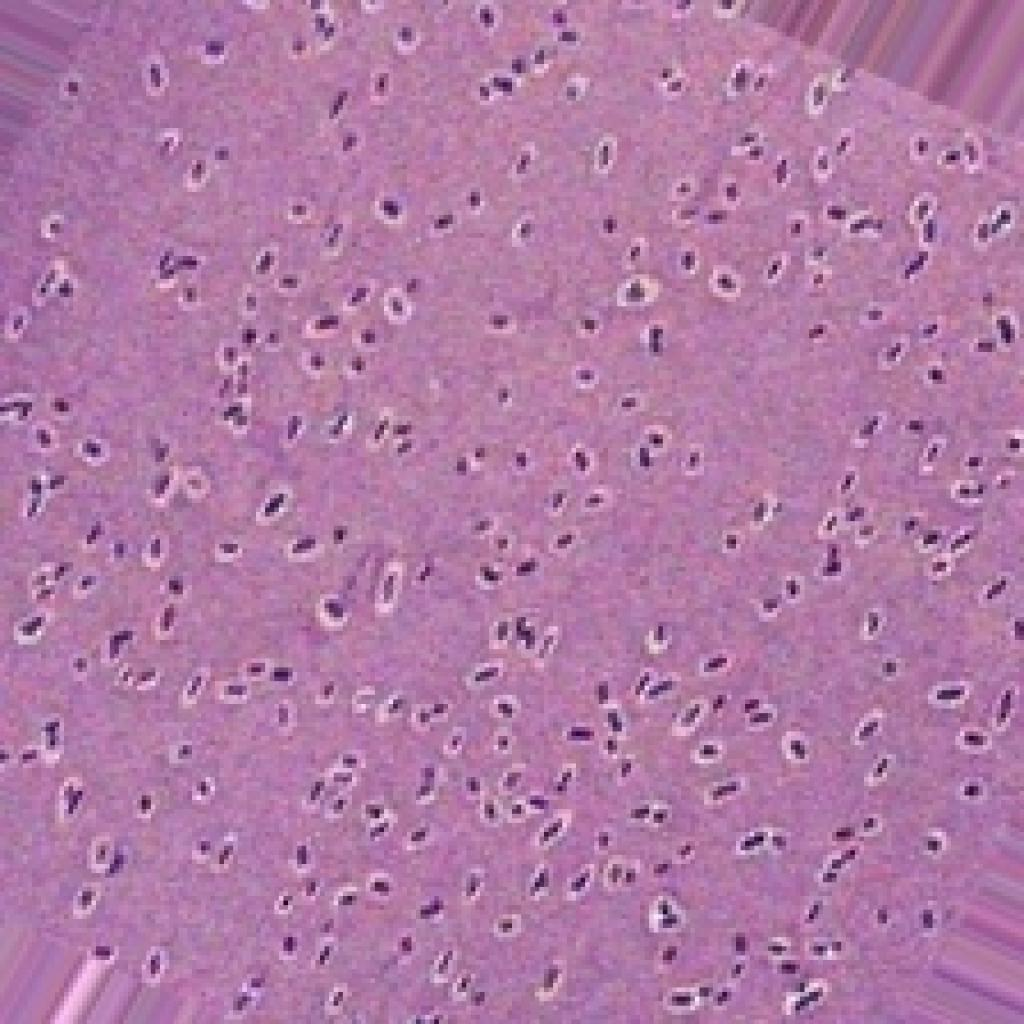Sphericalbacteria: (0, 0, 1019, 1019)
